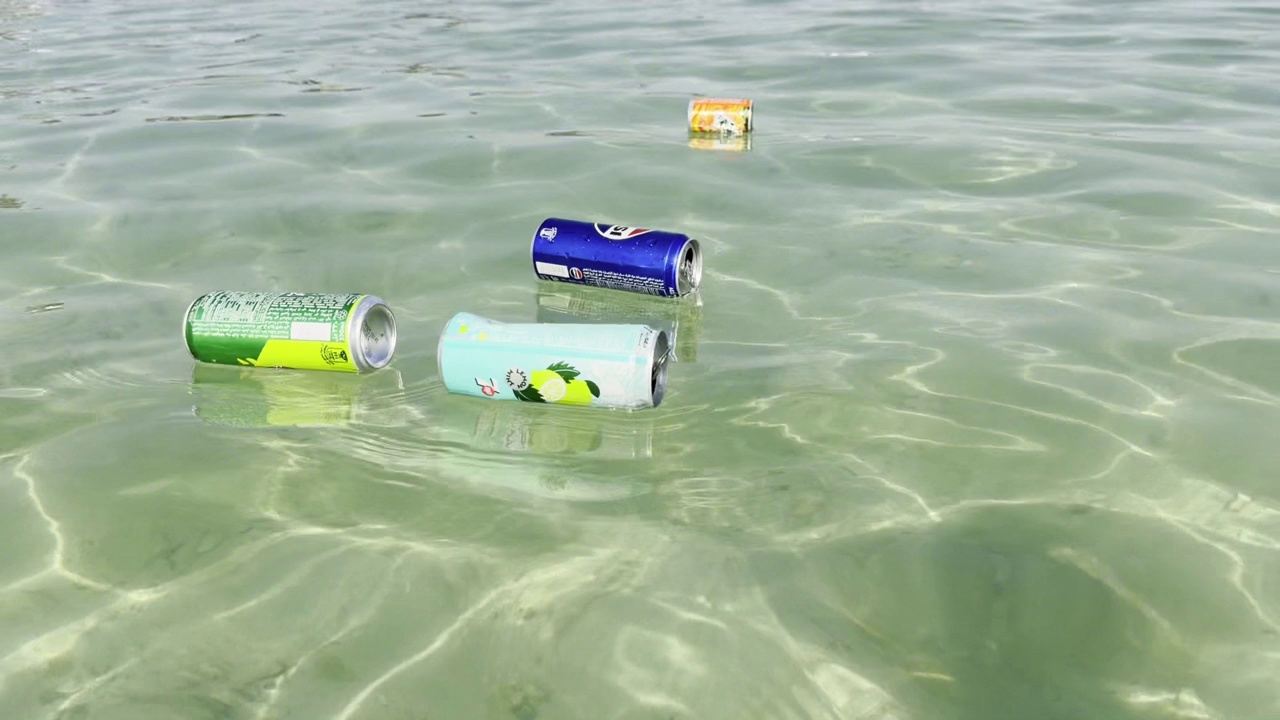debris: (432, 300, 681, 414), (167, 281, 407, 385), (524, 208, 705, 312), (681, 88, 757, 139)
